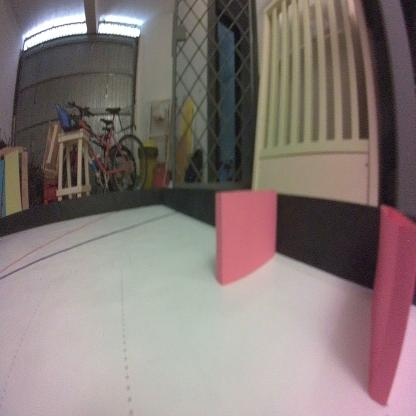magenta: (368, 200, 416, 414), (212, 186, 279, 290)
